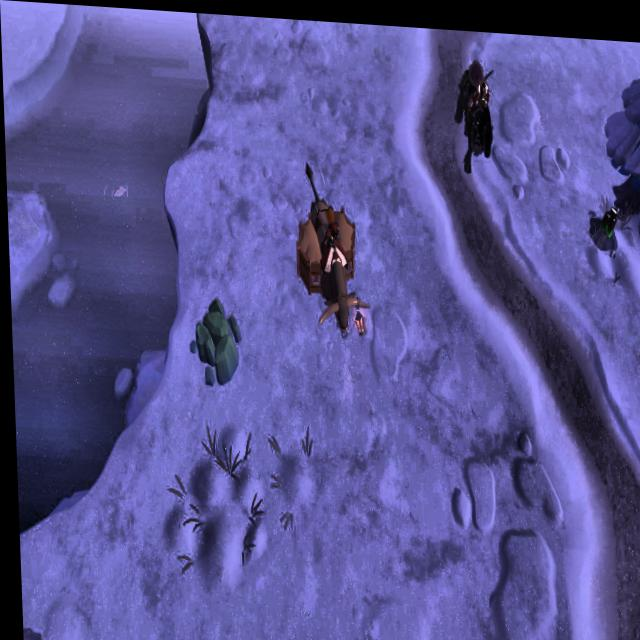ore_t3: (586, 189, 621, 243)
rock_t3: (181, 287, 241, 381)
